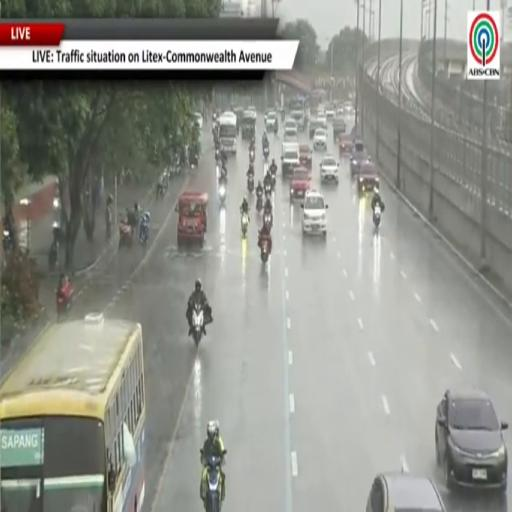bus: (0, 314, 145, 511), (219, 112, 238, 153), (289, 95, 306, 131)
car: (435, 390, 507, 492), (366, 471, 446, 511), (302, 190, 328, 236), (358, 160, 379, 196), (290, 167, 311, 200), (281, 142, 300, 178), (350, 140, 368, 178), (321, 155, 338, 184), (313, 128, 327, 150), (333, 118, 346, 141), (309, 118, 323, 139), (339, 134, 352, 155), (265, 110, 276, 130), (284, 126, 297, 141), (316, 112, 327, 129), (194, 112, 203, 130), (325, 104, 335, 120), (284, 118, 297, 130), (343, 102, 354, 115), (264, 108, 273, 122), (246, 106, 257, 116), (336, 107, 345, 117)
motorcycle: (201, 450, 226, 511), (48, 226, 61, 270), (192, 303, 204, 345), (56, 290, 72, 321), (119, 221, 133, 249), (48, 239, 58, 270), (139, 221, 149, 246), (260, 237, 269, 263), (3, 229, 12, 254), (373, 204, 381, 228), (241, 213, 248, 236), (219, 182, 226, 204), (263, 212, 272, 229), (270, 167, 276, 189), (247, 175, 254, 193), (256, 196, 263, 212), (264, 183, 272, 197), (264, 146, 269, 161), (215, 148, 220, 161), (249, 150, 254, 163), (274, 119, 278, 134), (216, 164, 220, 179)
tricycle: (176, 191, 208, 247)
